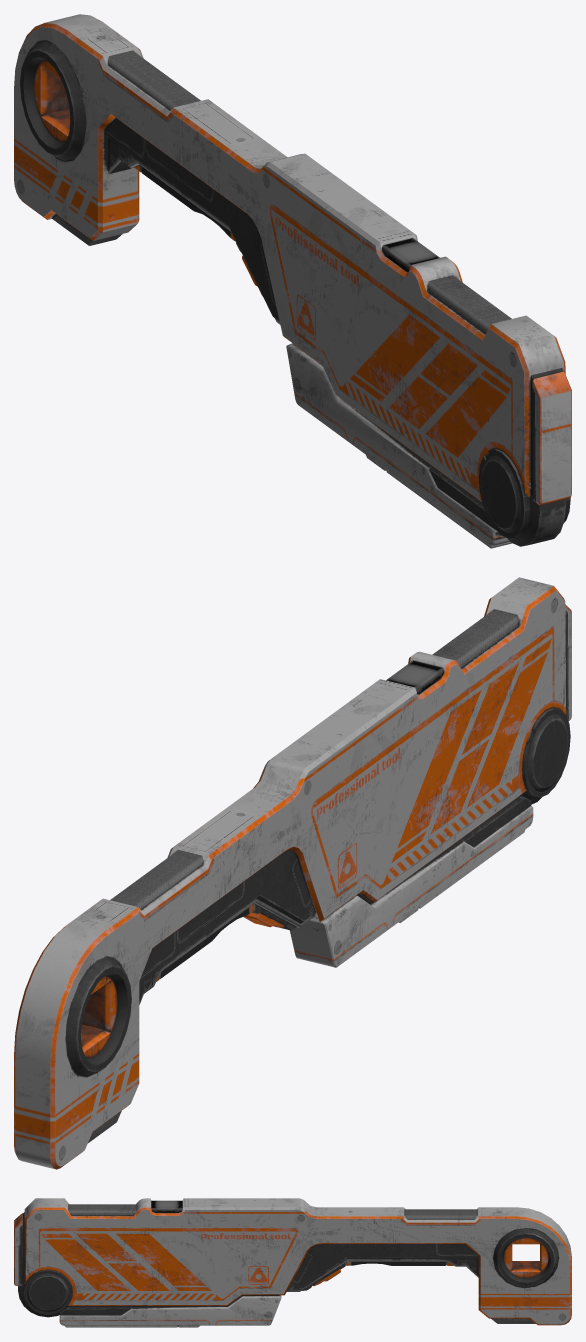
File: Scanner_SciFi_Tool_BS.fbx
The picture shows the model from 3 angles, top to bottom: view 1: azimuth 30°, elevation 25°; view 2: azimuth 150°, elevation 25°; view 3: azimuth 270°, elevation 25°; orthographic projection. The views are drawn at different scales.
Parts seen in each view (by area): view 1: Scanner_SciFi_Tool_BS; view 2: Scanner_SciFi_Tool_BS; view 3: Scanner_SciFi_Tool_BS.
Boxes of the visible parts, <box> form: Scanner_SciFi_Tool_BS: <box>14,14,571,548</box>; Scanner_SciFi_Tool_BS: <box>14,577,571,1169</box>; Scanner_SciFi_Tool_BS: <box>14,1198,571,1327</box>.
Bounding box in the file's own units: 3.72 × 13.91 × 58.5.
1 material, 1 textured.
